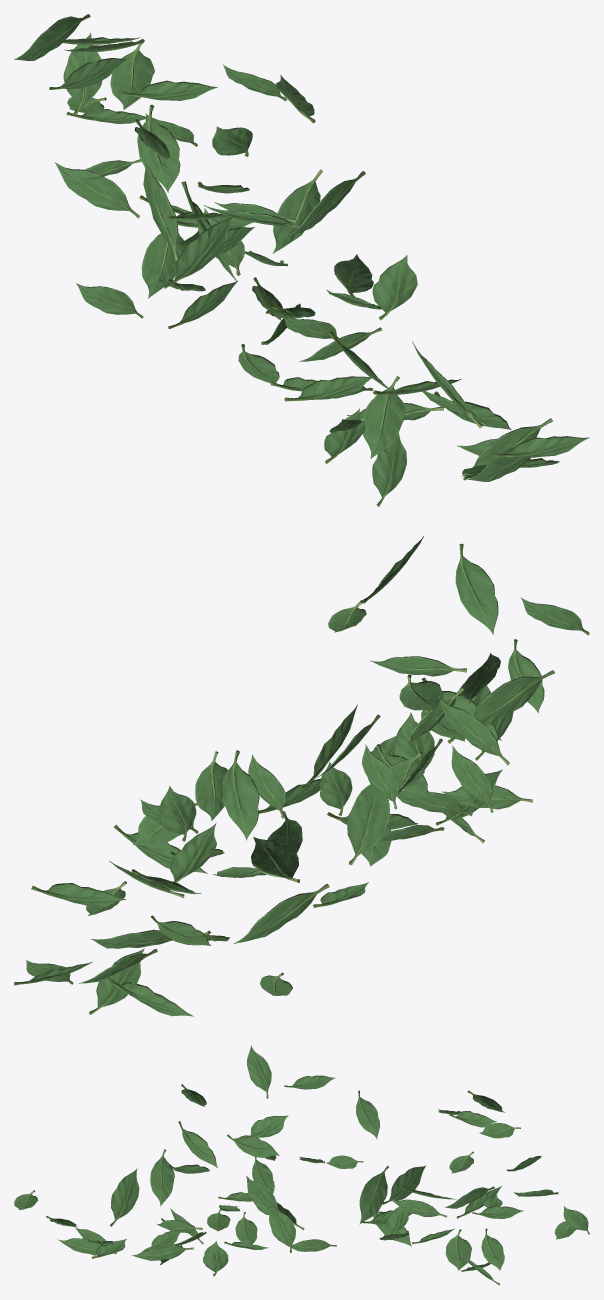
The model's file is holy_canopy12_full.glb.
The picture shows the model from 3 angles, top to bottom: view 1: azimuth 30°, elevation 25°; view 2: azimuth 150°, elevation 25°; view 3: azimuth 270°, elevation 25°; orthographic projection. The views are drawn at different scales.
Visible parts, largest first — view 1: holy_canopy12; view 2: holy_canopy12; view 3: holy_canopy12.
Part boxes in pixels (bbox=[...]): holy_canopy12: bbox=[14, 14, 589, 506]; holy_canopy12: bbox=[14, 536, 589, 1016]; holy_canopy12: bbox=[14, 1045, 589, 1285].
Bounding box in the file's own units: 8.3 × 10.61 × 25.75.
Materials: 1 (1 with a texture image).
